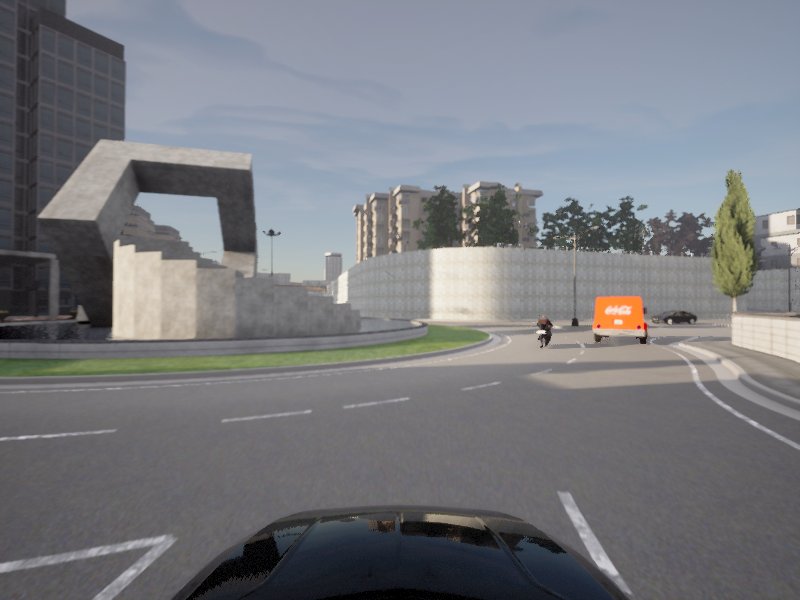vehicle: (590, 295, 648, 345), (531, 314, 555, 349)
